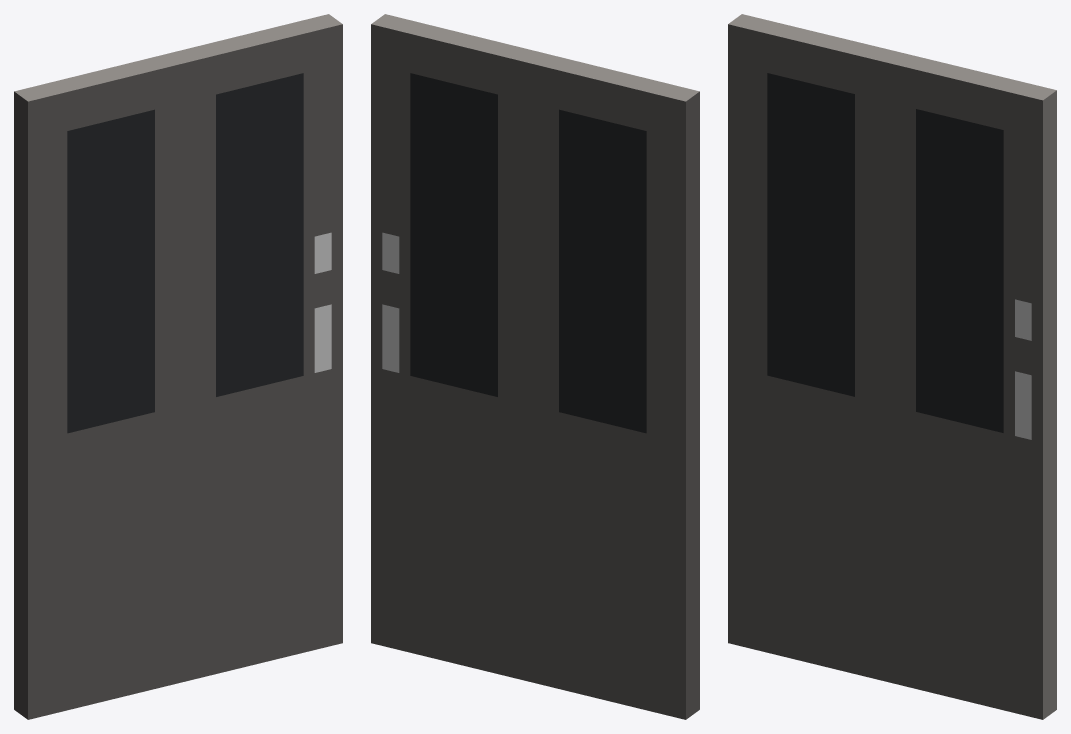
The model's file is SO_Door.fbx.
3 renders of one model, left to right at view 1: azimuth 30°, elevation 25°; view 2: azimuth 150°, elevation 25°; view 3: azimuth 330°, elevation 25°, orthographic.
Visible parts, largest first — view 1: SO_Door; view 2: SO_Door; view 3: SO_Door.
Boxes of the visible parts, x1,y1,x2,y2 form: SO_Door: (14,14,342,719); SO_Door: (371,14,699,719); SO_Door: (728,14,1056,719).
Size of the model in its own units: 2 by 3.75 by 0.1534.
